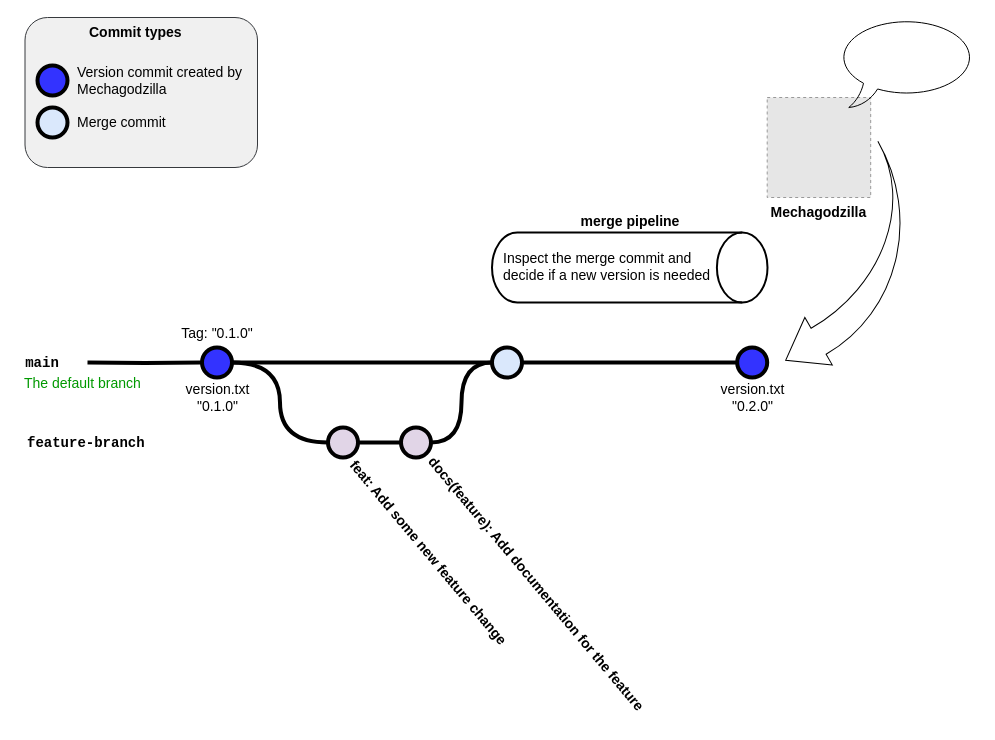
This 995x740 diagram has some shape labels left out. Grey dashed boxes stand in for pictures. The centre of each missing label's shape, as x and y in pixels:
I will bump that version!: pixel 907 62
Tag: "0.2.0": pixel 838 262
